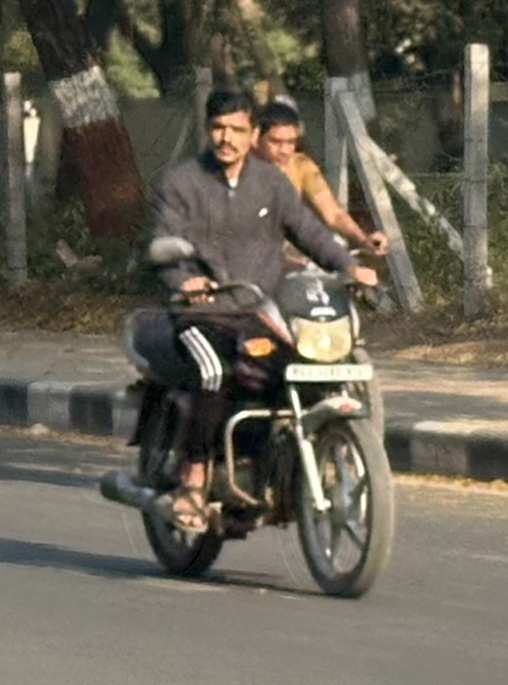BikeWithRider: (88, 77, 409, 606)
NoHelmet: (188, 81, 266, 173), (245, 90, 315, 171)
